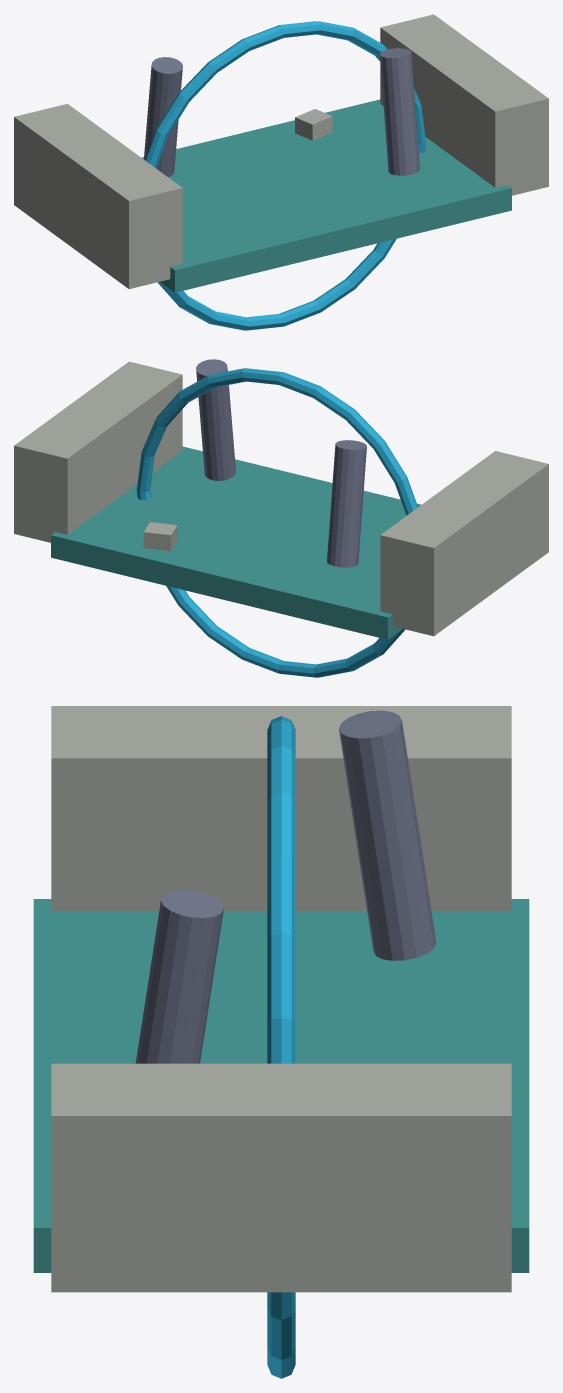
Rendered from sunken-bastion.glb.
3 renders of one model, top to bottom at view 1: azimuth 30°, elevation 25°; view 2: azimuth 150°, elevation 25°; view 3: azimuth 270°, elevation 25°, orthographic. The views are drawn at different scales.
Visible parts, largest first — view 1: bastion-flooded-floor, bastion-left-rampart, bastion-right-rampart, bastion-tide-ring, bastion-anchor-post-1, bastion-anchor-post-0, bastion-driftwood-crate; view 2: bastion-flooded-floor, bastion-left-rampart, bastion-right-rampart, bastion-tide-ring, bastion-anchor-post-0, bastion-anchor-post-1, bastion-driftwood-crate; view 3: bastion-right-rampart, bastion-left-rampart, bastion-flooded-floor, bastion-anchor-post-0, bastion-tide-ring, bastion-anchor-post-1.
Part boxes in pixels (<box>): bastion-flooded-floor: <box>142,99,511,292</box>; bastion-left-rampart: <box>14,104,182,288</box>; bastion-right-rampart: <box>380,14,548,195</box>; bastion-tide-ring: <box>145,21,426,330</box>; bastion-anchor-post-1: <box>380,48,419,175</box>; bastion-anchor-post-0: <box>144,57,182,177</box>; bastion-driftwood-crate: <box>295,109,332,140</box>; bastion-flooded-floor: <box>51,446,421,639</box>; bastion-left-rampart: <box>380,451,548,636</box>; bastion-right-rampart: <box>14,361,182,542</box>; bastion-tide-ring: <box>136,368,417,677</box>; bastion-anchor-post-0: <box>327,440,366,567</box>; bastion-anchor-post-1: <box>196,359,235,480</box>; bastion-driftwood-crate: <box>143,522,177,551</box>; bastion-right-rampart: <box>51,1063,511,1292</box>; bastion-left-rampart: <box>51,706,511,910</box>; bastion-flooded-floor: <box>33,899,529,1272</box>; bastion-anchor-post-0: <box>339,710,436,960</box>; bastion-tide-ring: <box>267,716,295,1378</box>; bastion-anchor-post-1: <box>135,890,223,1063</box>.
Size of the model in its own units: 2.74 by 1.88 by 1.4.
